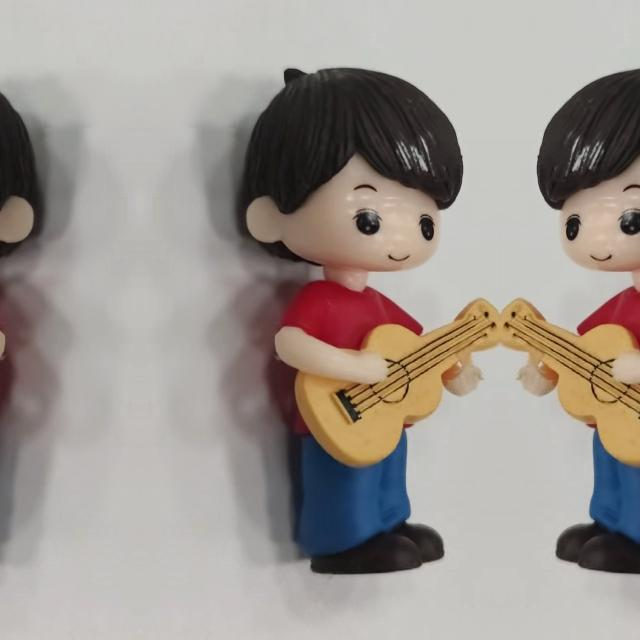man cloth: (286, 277, 432, 431), (568, 277, 640, 431)
man head: (234, 62, 466, 278), (534, 62, 640, 277), (0, 62, 45, 277)
trousers: (298, 433, 448, 581), (552, 433, 640, 581)
